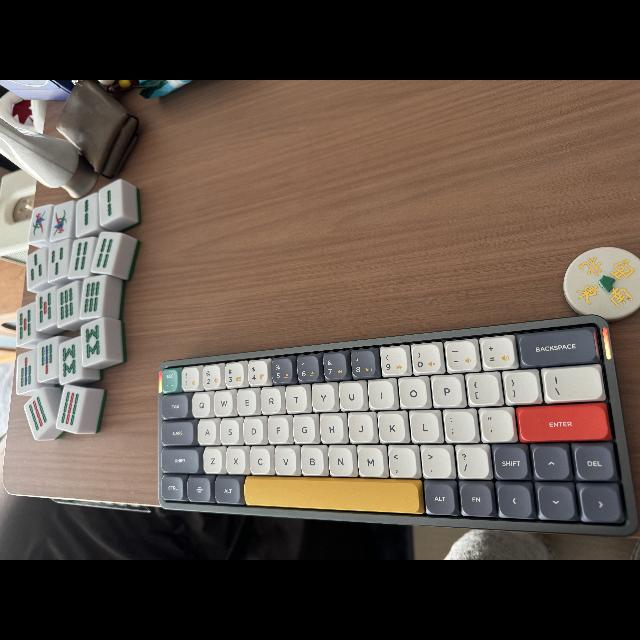b1: (51, 205, 71, 241), (30, 206, 48, 238)
b2: (100, 185, 120, 223), (76, 198, 98, 232)
b3: (26, 252, 46, 284), (48, 246, 68, 278)
b4: (94, 234, 116, 272), (71, 239, 89, 275)
b5: (36, 290, 56, 328), (16, 307, 34, 343)
b6: (81, 277, 102, 317), (57, 285, 77, 323)
b7: (38, 341, 58, 382), (17, 353, 37, 392)
b8: (59, 341, 81, 382), (82, 322, 104, 362)
b9: (27, 394, 51, 436), (58, 387, 82, 429)
